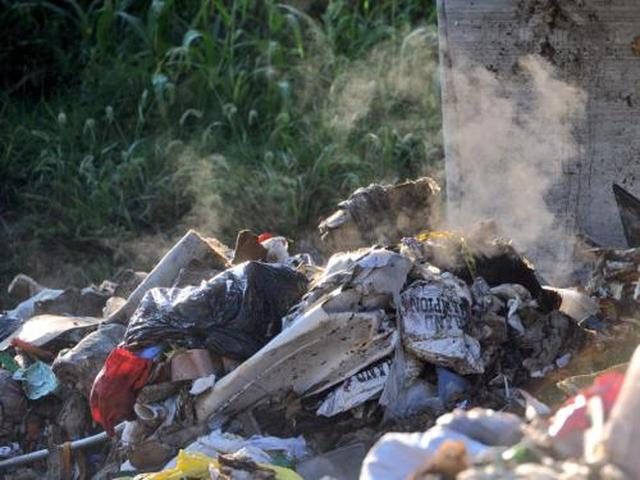garbage: (176, 265, 528, 400)
